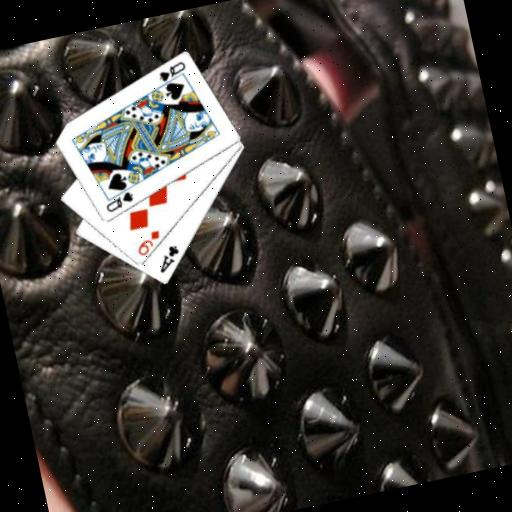9D: (131, 227, 165, 259)
AC: (152, 241, 184, 275)
QS: (100, 187, 137, 215), (153, 57, 189, 84)
